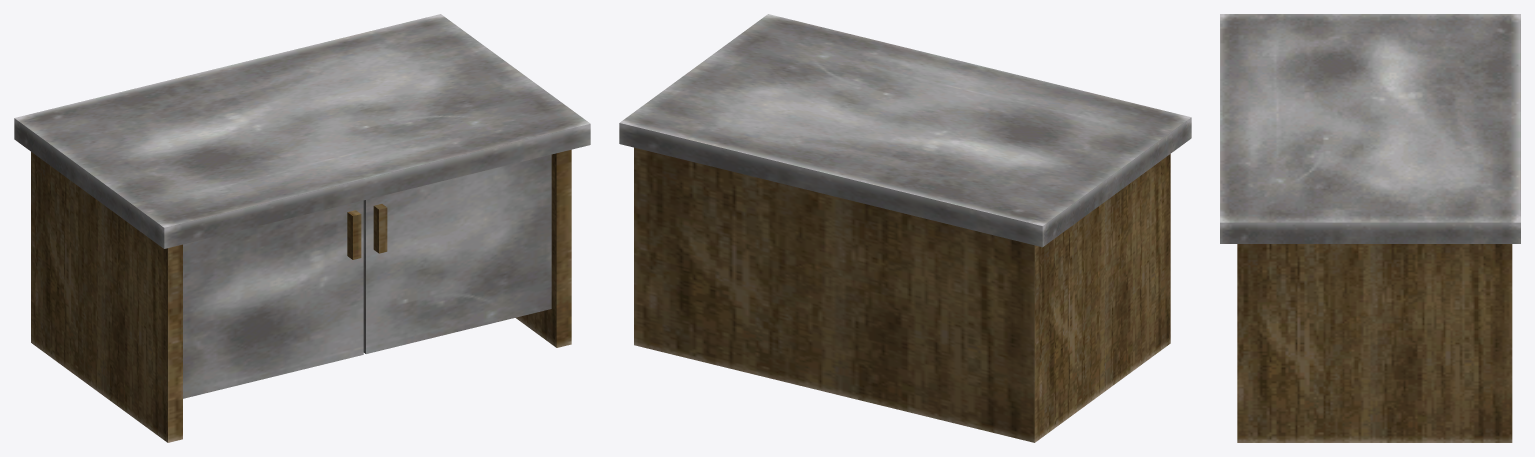
File: cj_df_worktop_2.obj
3 views of the same model, side by side, from view 1: azimuth 30°, elevation 25°; view 2: azimuth 150°, elevation 25°; view 3: azimuth 270°, elevation 25° (orthographic).
Parts seen in each view (by area): view 1: CJ_DF_WORKTOP_2; view 2: CJ_DF_WORKTOP_2; view 3: CJ_DF_WORKTOP_2.
Boxes of the visible parts, <box> form: CJ_DF_WORKTOP_2: <box>14,14,590,442</box>; CJ_DF_WORKTOP_2: <box>619,14,1191,442</box>; CJ_DF_WORKTOP_2: <box>1220,14,1520,442</box>.
Bounding box in the file's own units: 1.89 × 0.9502 × 1.15.
Materials: 2 (2 with a texture image).
